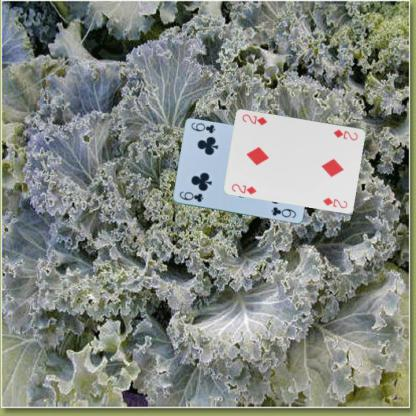2d: (331, 127, 359, 142), (229, 181, 258, 195)
6c: (177, 189, 204, 203)
